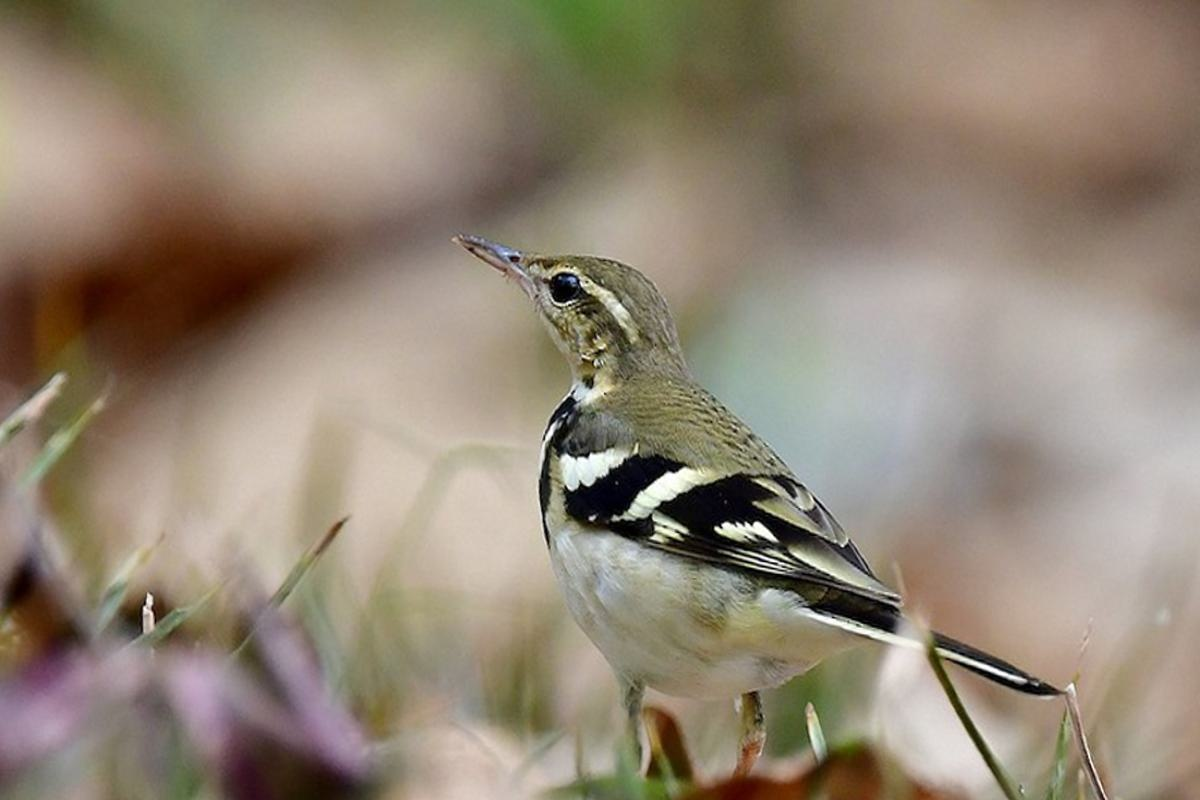wagtail: (436, 180, 1021, 764)
